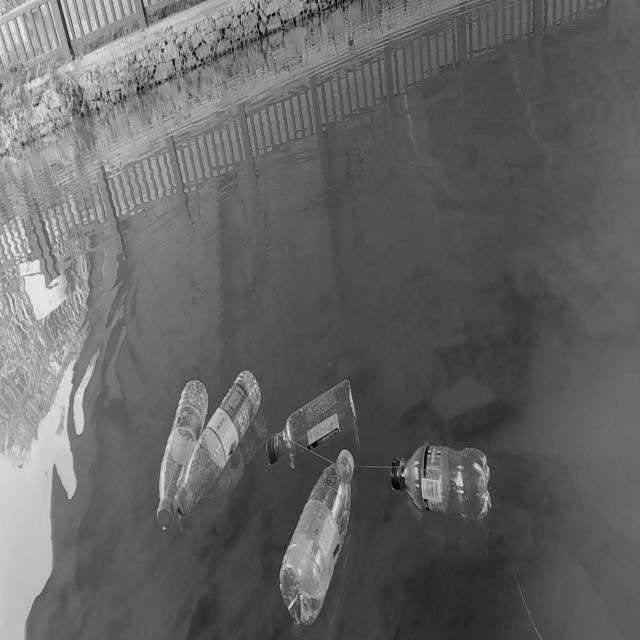bottle: (274, 447, 360, 629), (176, 364, 268, 514), (146, 369, 209, 530), (382, 436, 497, 519), (262, 375, 363, 468)
